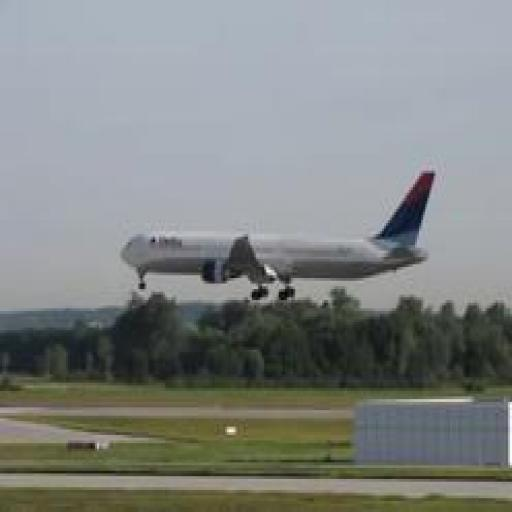aircraft: (116, 168, 440, 303)
